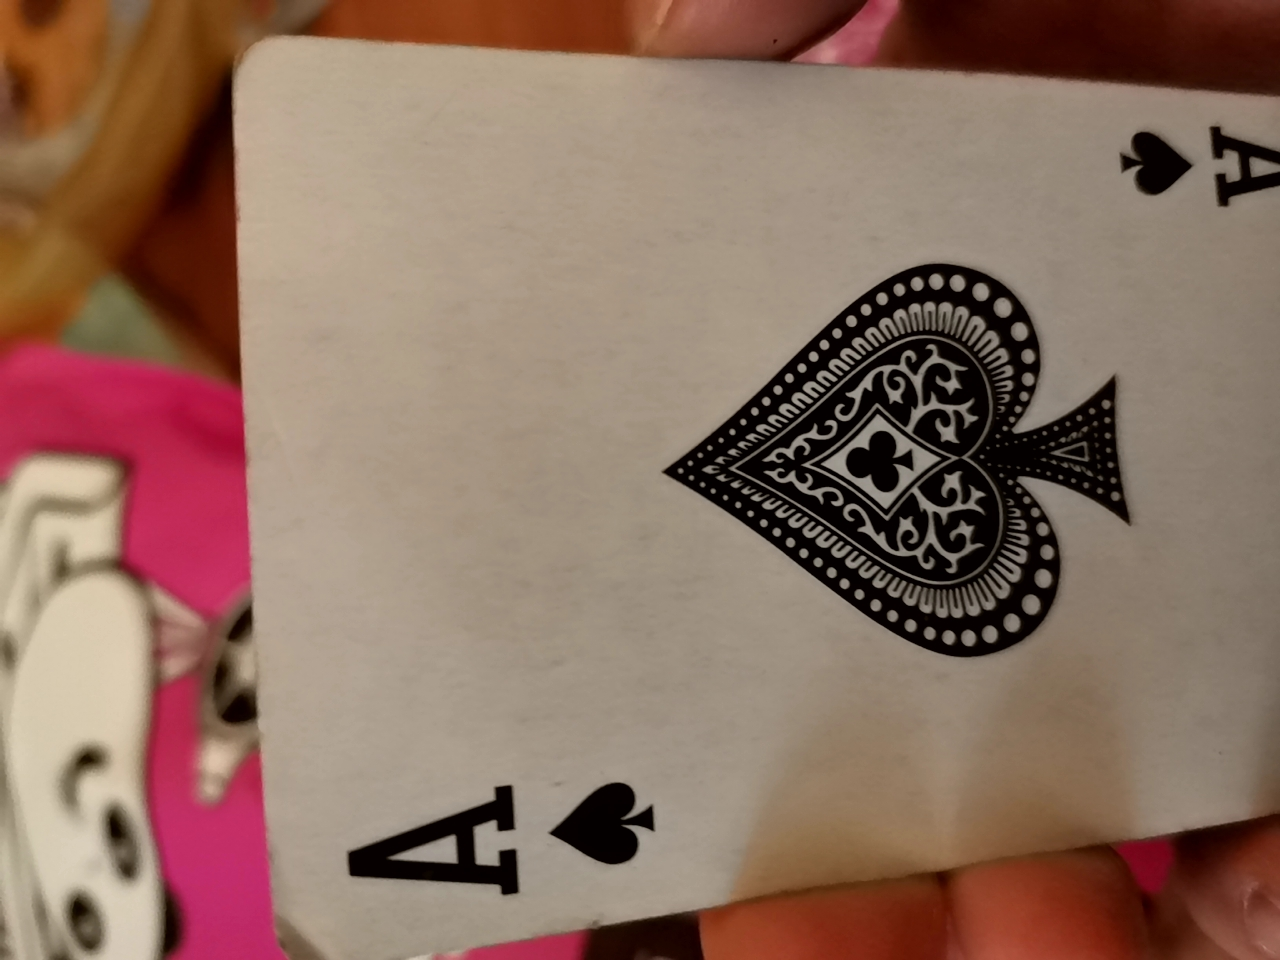ht a: (233, 47, 1264, 948)
